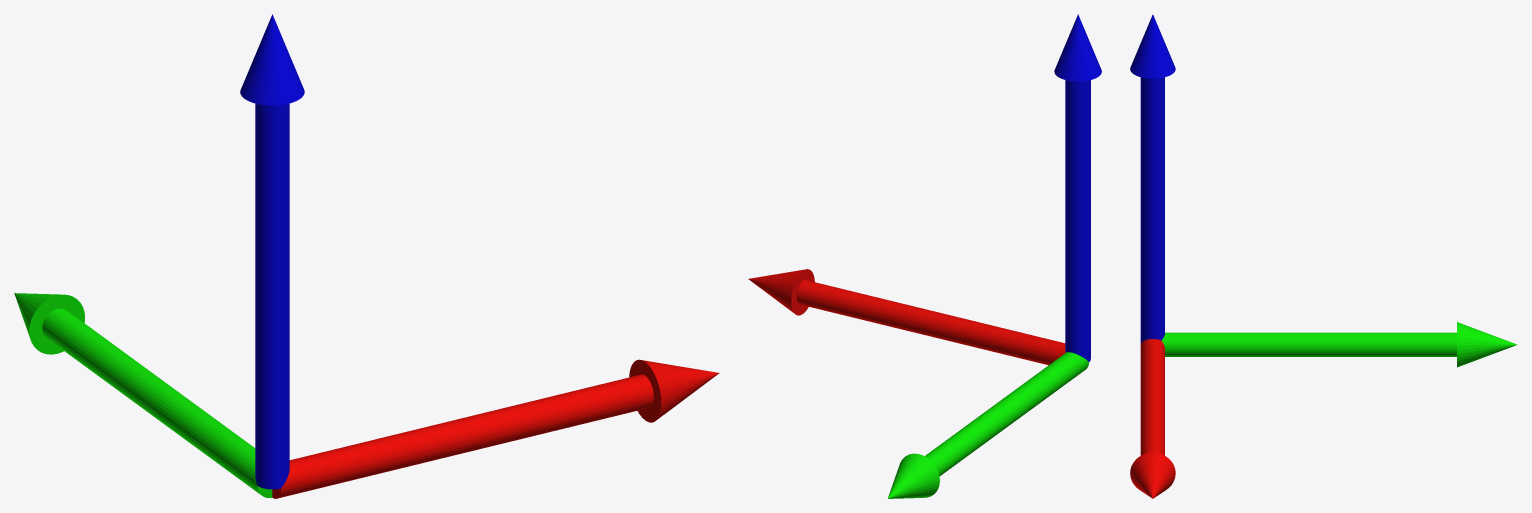
Rendered from axis.dae.
3 renders of one model, left to right at view 1: azimuth 30°, elevation 25°; view 2: azimuth 150°, elevation 25°; view 3: azimuth 270°, elevation 25°, orthographic. The views are drawn at different scales.
Visible parts, largest first — view 1: axis-z, axis-x, axis-y; view 2: axis-z, axis-x, axis-y; view 3: axis-y, axis-z, axis-x.
Boxes of the visible parts, x1=… form: axis-z: x1=240, y1=14, x2=304, y2=489; axis-x: x1=272, y1=359, x2=719, y2=498; axis-y: x1=14, y1=293, x2=272, y2=497; axis-z: x1=1054, y1=14, x2=1101, y2=361; axis-x: x1=748, y1=269, x2=1065, y2=365; axis-y: x1=887, y1=352, x2=1088, y2=498; axis-y: x1=1161, y1=322, x2=1517, y2=367; axis-z: x1=1130, y1=14, x2=1175, y2=343; axis-x: x1=1130, y1=339, x2=1175, y2=498.
Size of the model in its own units: 0.1275 by 0.1275 by 0.1275.
